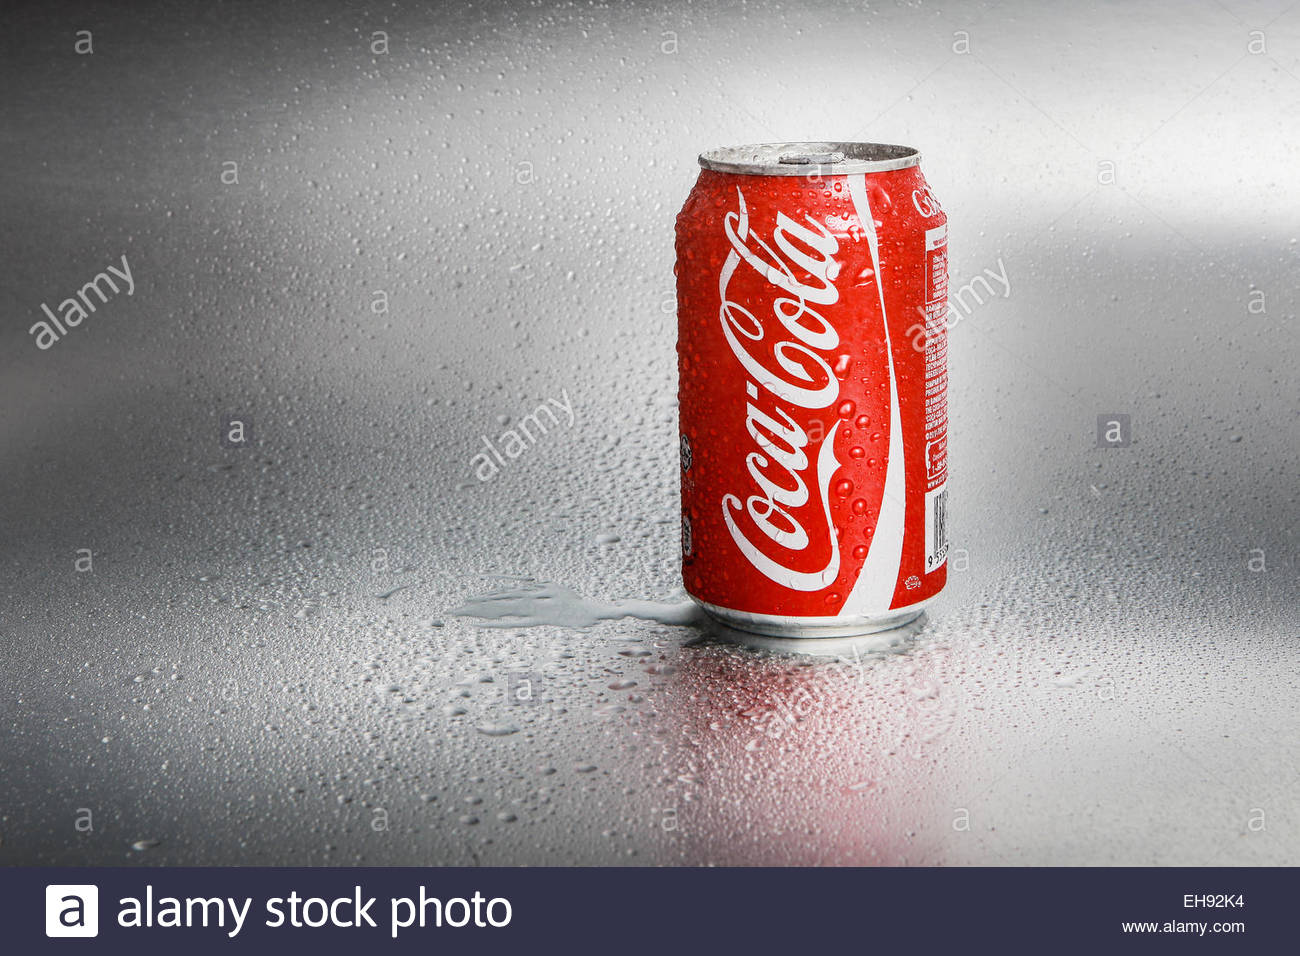coke: (675, 143, 948, 632)
